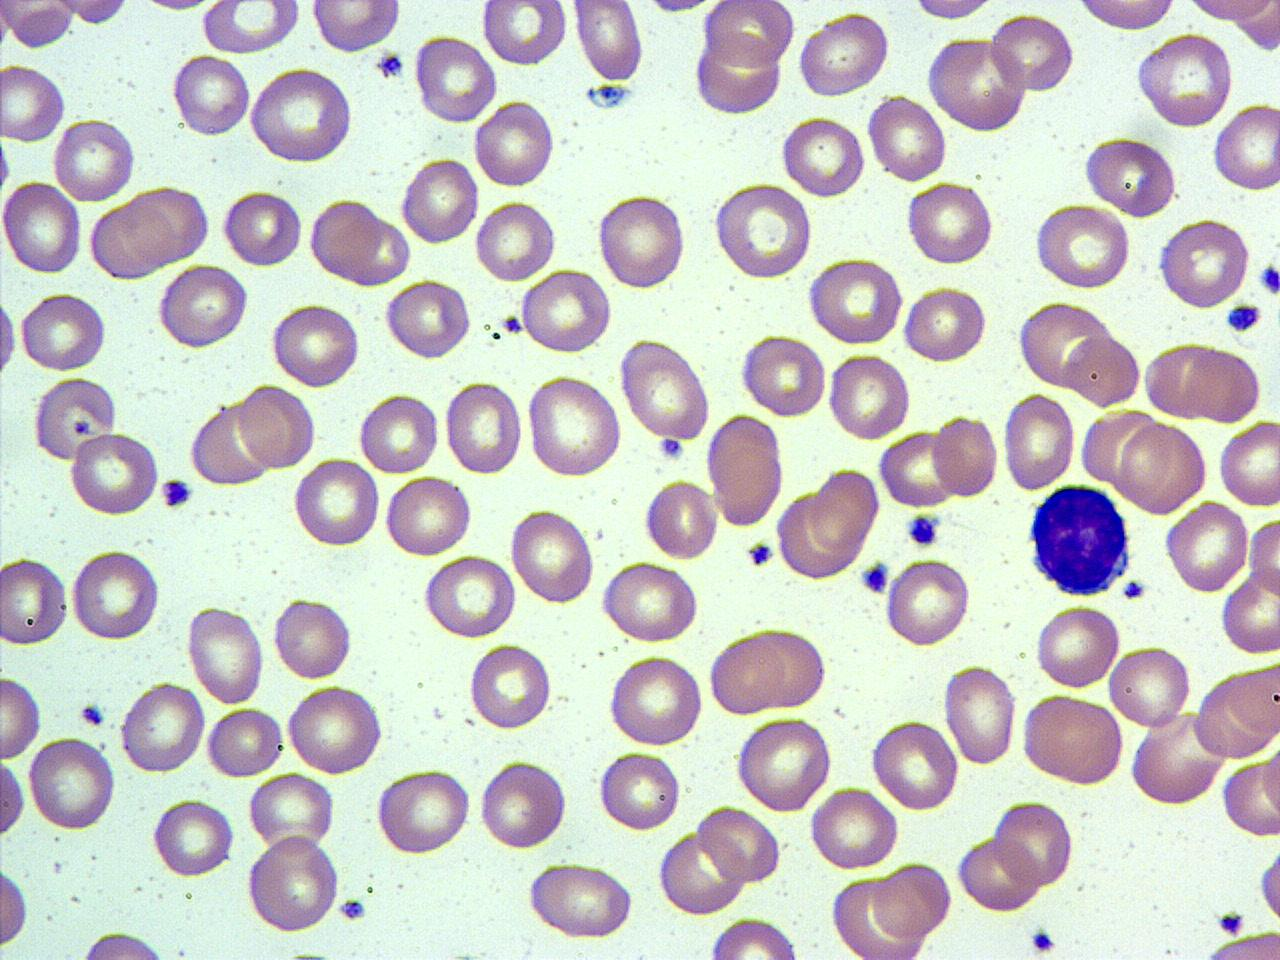Platelets: (1199, 928, 1280, 960), (586, 81, 636, 112), (904, 511, 943, 548), (1223, 301, 1265, 335), (159, 474, 195, 511), (860, 560, 890, 597), (1216, 908, 1248, 938), (376, 50, 406, 82), (336, 896, 368, 924), (1255, 262, 1279, 297), (746, 540, 775, 568), (1029, 927, 1057, 955), (656, 435, 684, 462), (79, 703, 106, 729), (1121, 578, 1145, 600), (503, 313, 526, 333)
RBC: (248, 65, 355, 164), (527, 372, 623, 480), (926, 34, 1030, 133), (713, 180, 814, 281), (1020, 692, 1126, 788), (734, 714, 832, 816), (246, 833, 343, 935), (1135, 31, 1235, 129), (620, 338, 714, 442), (704, 412, 786, 530), (606, 652, 704, 748), (284, 682, 384, 776), (706, 628, 814, 715), (595, 192, 688, 293), (807, 255, 906, 348), (25, 734, 117, 834), (1032, 202, 1134, 292), (1115, 419, 1209, 516), (1128, 712, 1222, 808), (796, 8, 894, 100), (373, 767, 473, 857), (507, 504, 595, 606), (70, 546, 161, 644), (518, 264, 614, 356), (1156, 218, 1252, 310), (828, 872, 928, 960), (598, 558, 700, 644), (478, 757, 570, 852), (155, 262, 252, 352), (118, 678, 207, 776), (526, 860, 635, 940), (1163, 497, 1251, 596), (183, 603, 268, 705), (290, 455, 382, 549), (883, 554, 973, 650), (422, 552, 518, 642), (1079, 133, 1179, 219), (870, 717, 958, 813), (942, 662, 1020, 769), (904, 178, 995, 269), (808, 782, 900, 872), (382, 472, 476, 560), (1, 177, 83, 277), (270, 300, 362, 389), (472, 97, 557, 193), (29, 374, 119, 464), (1016, 302, 1109, 389), (444, 378, 524, 479), (66, 432, 162, 516), (467, 640, 554, 732), (1034, 602, 1122, 692), (49, 117, 138, 205), (826, 350, 912, 441), (1107, 643, 1195, 731), (1002, 390, 1077, 492), (18, 290, 109, 374), (992, 797, 1076, 888), (987, 9, 1075, 95), (738, 332, 826, 418), (413, 34, 498, 123), (866, 92, 948, 184), (596, 748, 683, 834), (901, 282, 989, 367), (692, 34, 783, 116), (383, 277, 471, 361), (236, 382, 318, 472), (272, 594, 354, 684), (356, 390, 441, 476), (474, 197, 558, 284), (400, 155, 480, 246), (806, 465, 881, 562), (780, 115, 866, 199), (151, 796, 236, 880), (248, 771, 337, 851), (221, 186, 304, 270), (123, 184, 210, 264), (956, 832, 1040, 914), (696, 804, 783, 883), (871, 859, 953, 942), (173, 54, 252, 140), (0, 552, 70, 648), (643, 476, 720, 563), (308, 195, 384, 281), (1211, 99, 1279, 194), (700, 1, 796, 68), (90, 199, 170, 279), (876, 428, 956, 508), (1182, 344, 1262, 424), (1060, 331, 1142, 408), (930, 413, 1000, 500), (205, 704, 285, 780), (480, 0, 569, 68), (573, 0, 645, 84), (1217, 418, 1280, 509), (0, 61, 68, 145), (202, 0, 301, 55), (1220, 568, 1280, 656), (308, 0, 402, 54), (1222, 755, 1280, 839), (1228, 658, 1280, 742), (704, 914, 802, 958), (0, 674, 46, 763), (0, 0, 79, 51), (1072, 0, 1182, 35), (71, 929, 178, 960), (1244, 513, 1280, 598), (0, 858, 31, 952), (1177, 0, 1280, 26), (0, 753, 26, 847), (1253, 840, 1279, 933), (0, 282, 20, 394), (908, 0, 998, 24), (1257, 742, 1279, 828)
WBC: (1025, 481, 1135, 599)
